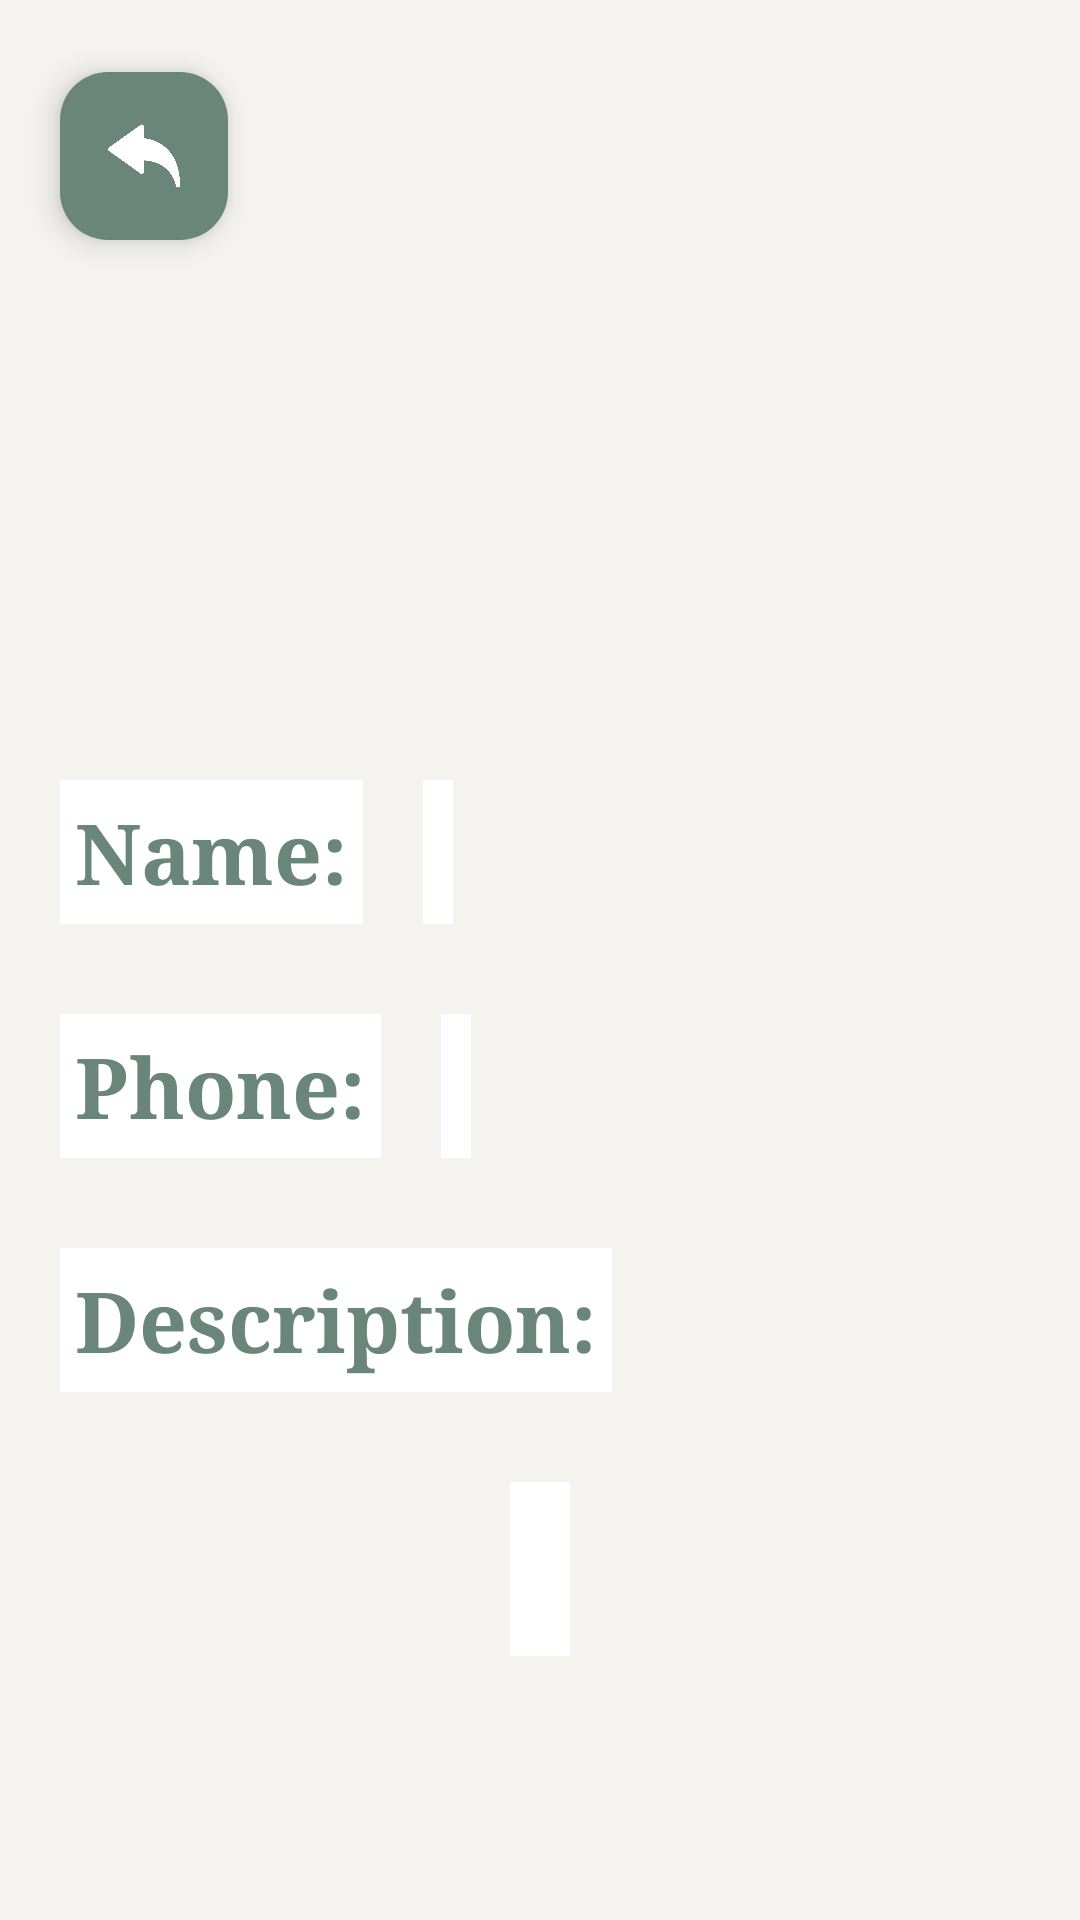

Screen size 1080x1920. Icon name, then its box in pixels as bbox=(x1, y1, x2, y2):
back: bbox=(60, 72, 228, 240)
